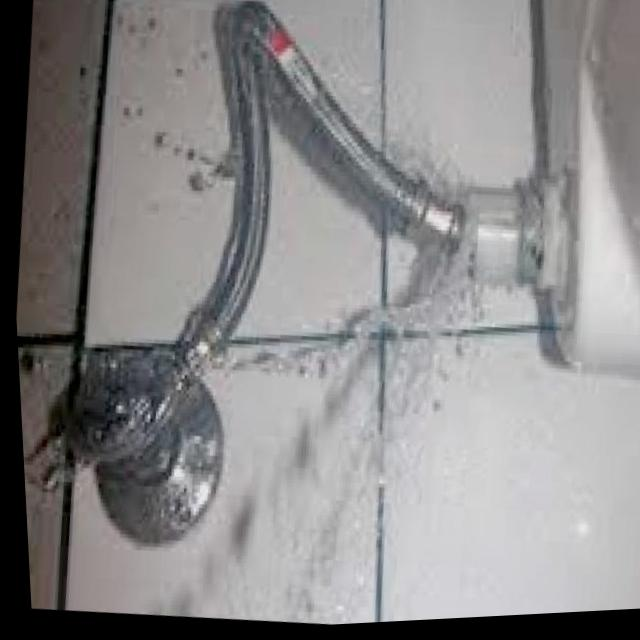leak: (160, 148, 489, 624)
